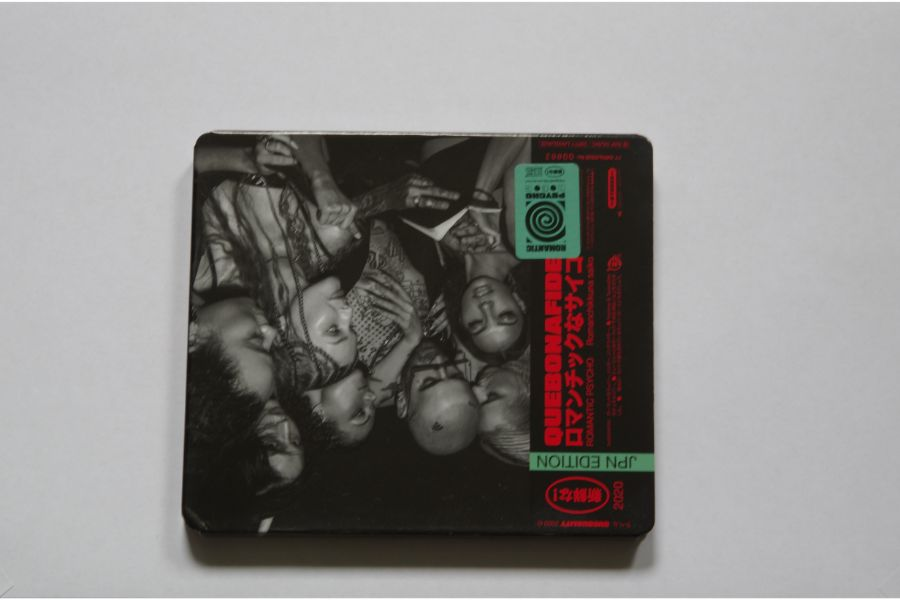album: (180, 129, 655, 537)
